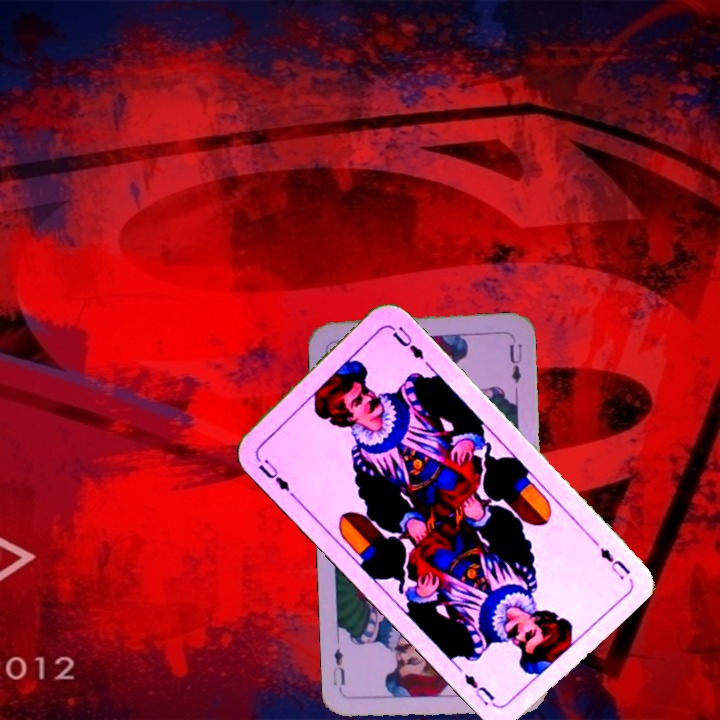EU: (254, 455, 298, 500), (596, 543, 633, 583)
